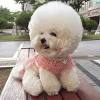dog: (15, 0, 87, 97)
